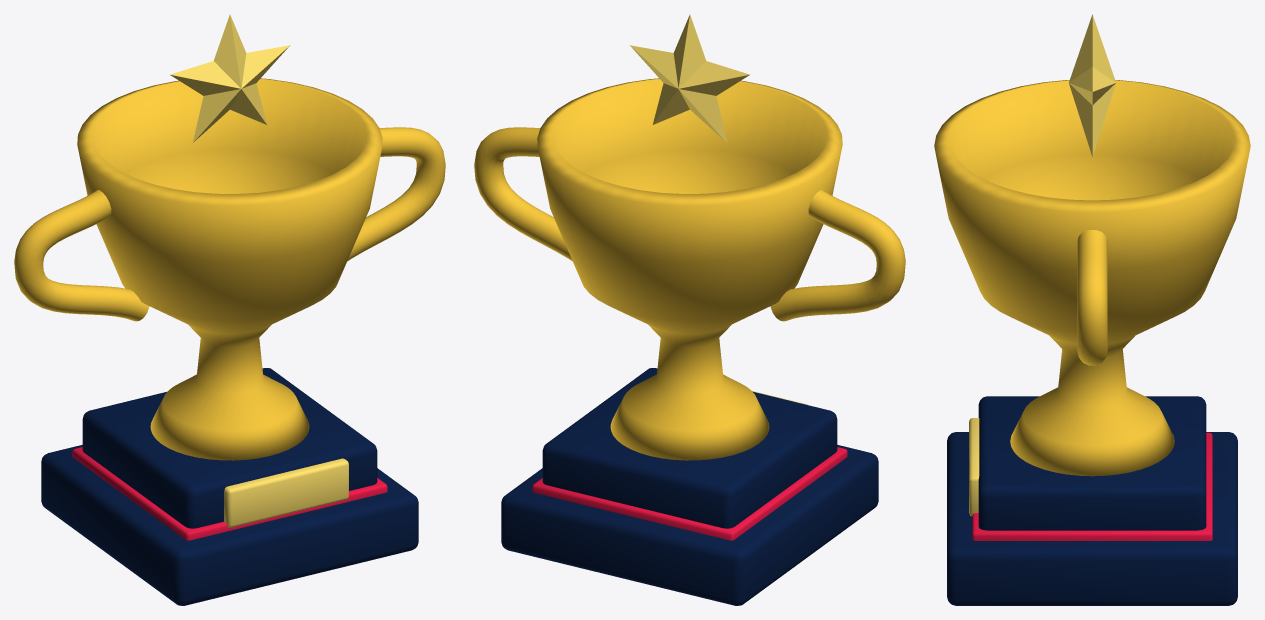
Rendered from screen-trophy.glb.
3 views of the same model, side by side, from view 1: azimuth 30°, elevation 25°; view 2: azimuth 150°, elevation 25°; view 3: azimuth 270°, elevation 25° (orthographic). The views are drawn at different scales.
Visible parts, largest first — view 1: TrophyCup, TrophyBaseLower, TrophyBaseUpper, TrophyHandle_-1, TrophyStar, TrophyPlaque, TrophyHandle_1, TrophyCrimsonBand; view 2: TrophyCup, TrophyBaseLower, TrophyBaseUpper, TrophyHandle_-1, TrophyStar, TrophyHandle_1, TrophyCrimsonBand; view 3: TrophyCup, TrophyBaseLower, TrophyBaseUpper, TrophyHandle_1, TrophyStar, TrophyCrimsonBand, TrophyPlaque.
Part boxes in pixels (bbox=[...]): TrophyCup: bbox=[77, 78, 382, 460]; TrophyBaseLower: bbox=[41, 445, 418, 605]; TrophyBaseUpper: bbox=[82, 368, 377, 528]; TrophyHandle_-1: bbox=[14, 190, 149, 321]; TrophyStar: bbox=[170, 14, 289, 142]; TrophyPlaque: bbox=[224, 458, 348, 527]; TrophyHandle_1: bbox=[347, 127, 445, 261]; TrophyCrimsonBand: bbox=[72, 447, 387, 540]; TrophyCup: bbox=[537, 78, 842, 460]; TrophyBaseLower: bbox=[501, 445, 878, 605]; TrophyBaseUpper: bbox=[542, 368, 837, 528]; TrophyHandle_-1: bbox=[770, 190, 905, 321]; TrophyStar: bbox=[630, 14, 749, 142]; TrophyHandle_1: bbox=[474, 127, 572, 261]; TrophyCrimsonBand: bbox=[532, 447, 847, 540]; TrophyCup: bbox=[934, 80, 1250, 476]; TrophyBaseLower: bbox=[947, 432, 1237, 605]; TrophyBaseUpper: bbox=[978, 396, 1206, 530]; TrophyHandle_1: bbox=[1077, 230, 1107, 365]; TrophyStar: bbox=[1069, 14, 1115, 156]; TrophyCrimsonBand: bbox=[972, 432, 1212, 540]; TrophyPlaque: bbox=[969, 418, 979, 516].
Size of the model in its own units: 1.61 by 1.86 by 1.
